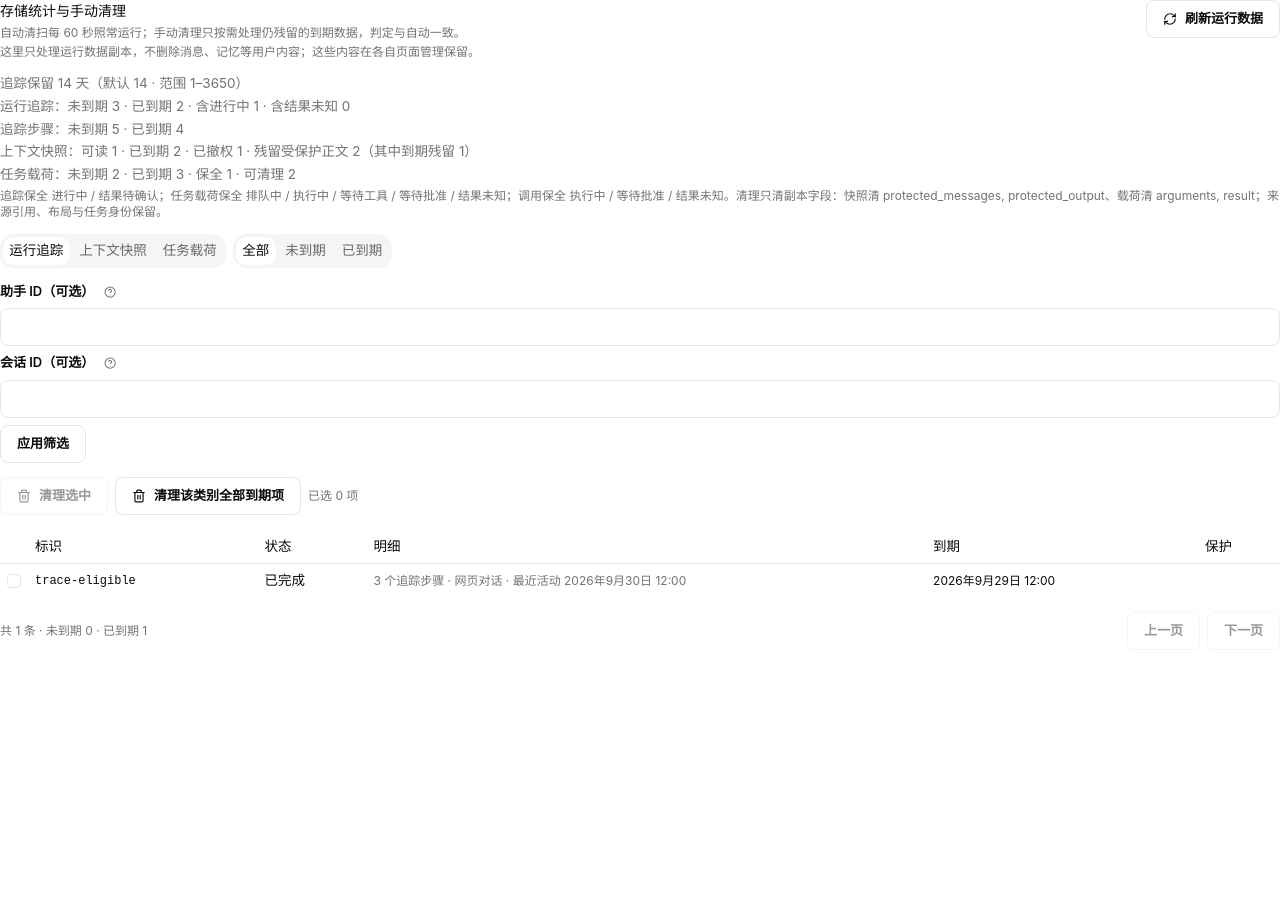
Test: delayed cleanup confirmation opener › cleanCategory returns to the exact action button after delayed preview and cancel
The image size is (1280, 900).
Click the button "清理该类别全部到期项": (208, 496) top-left (115, 477), bottom-right (301, 515)
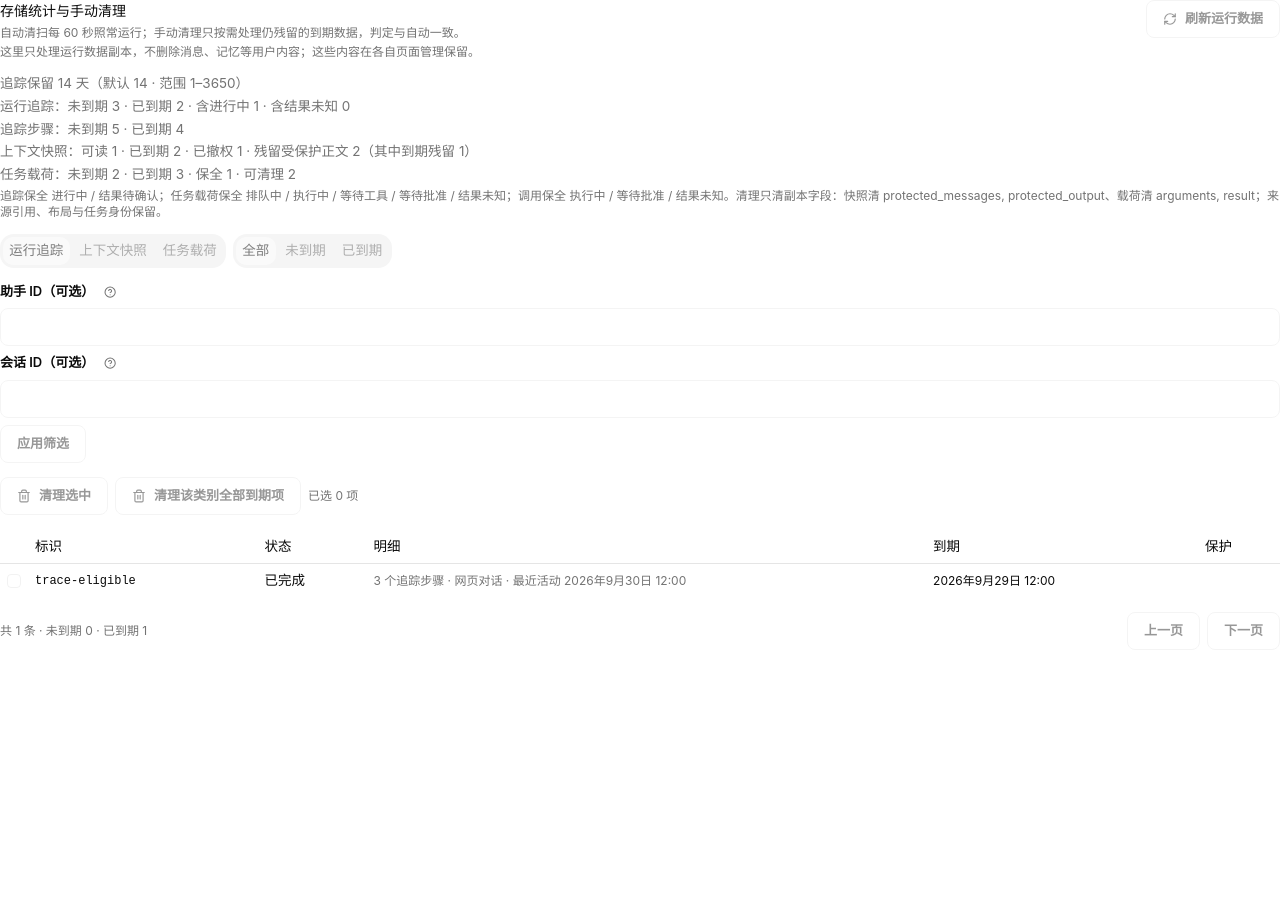
Expected: the button "清理该类别全部到期项" is disabled
Click the button "清理该类别全部到期项": (208, 496) top-left (115, 477), bottom-right (301, 515)
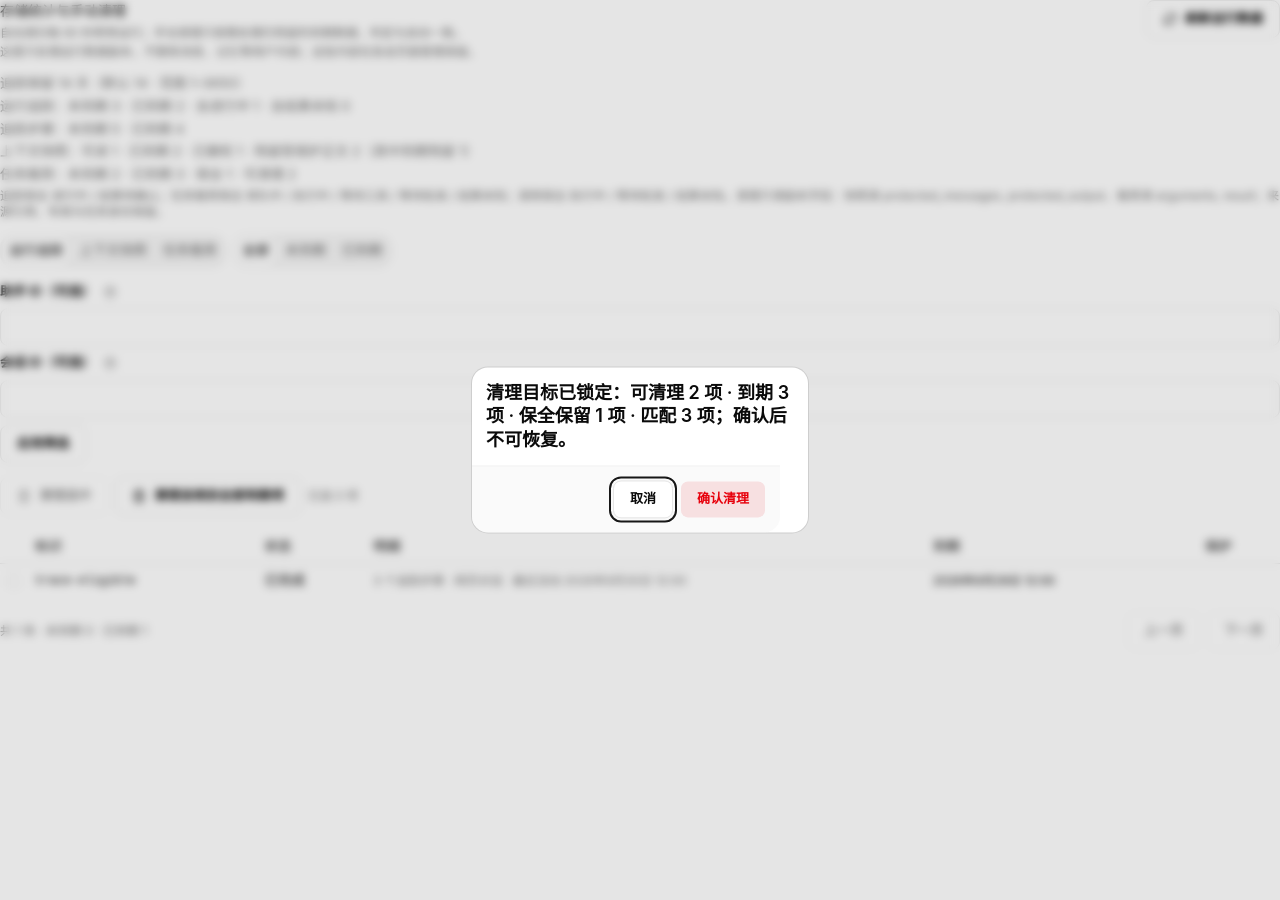
Click the button "取消": (643, 500) top-left (613, 481), bottom-right (673, 519)
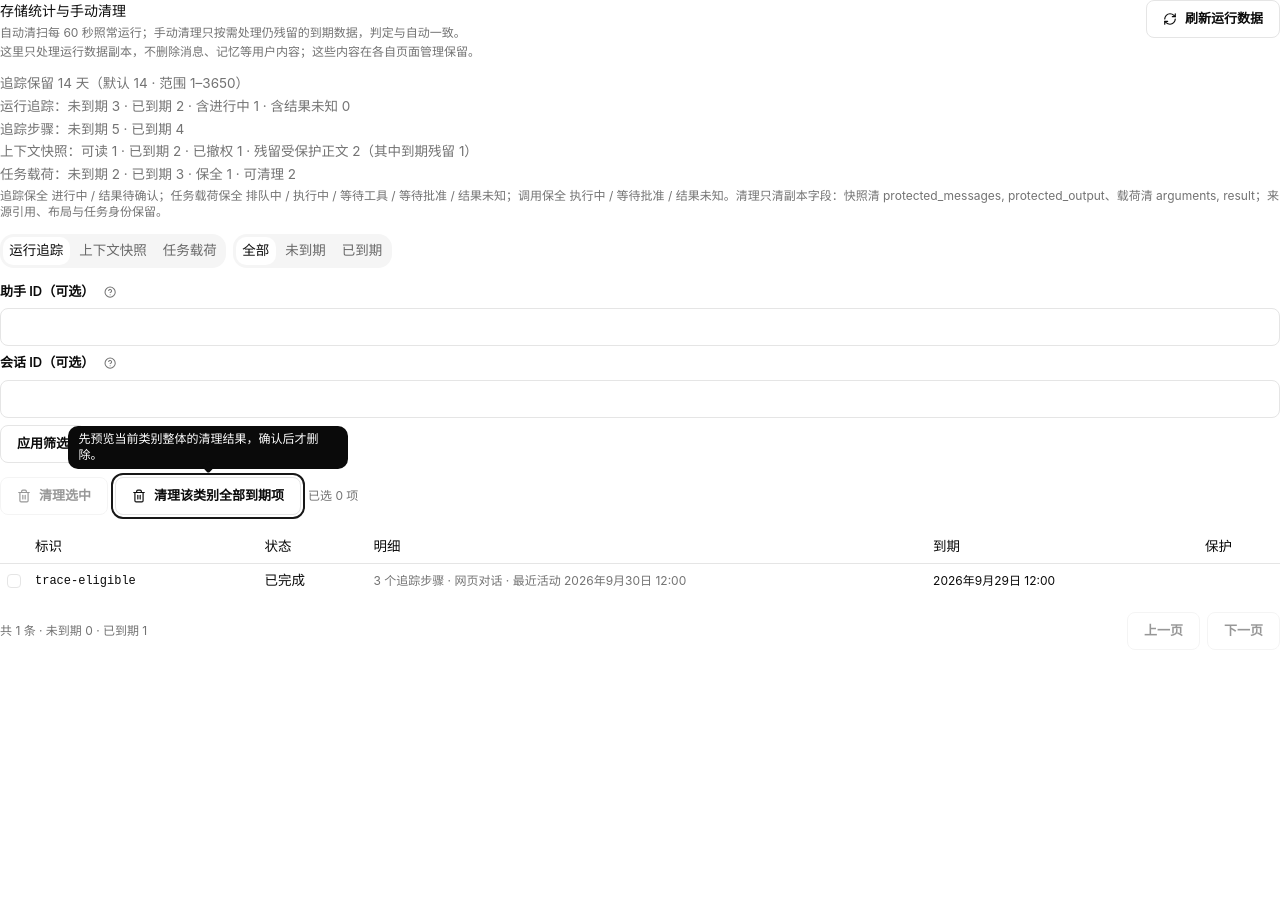
Expected: the button "清理该类别全部到期项" is enabled, top-left (115, 477), bottom-right (301, 515)
Expected: the dialog is gone
